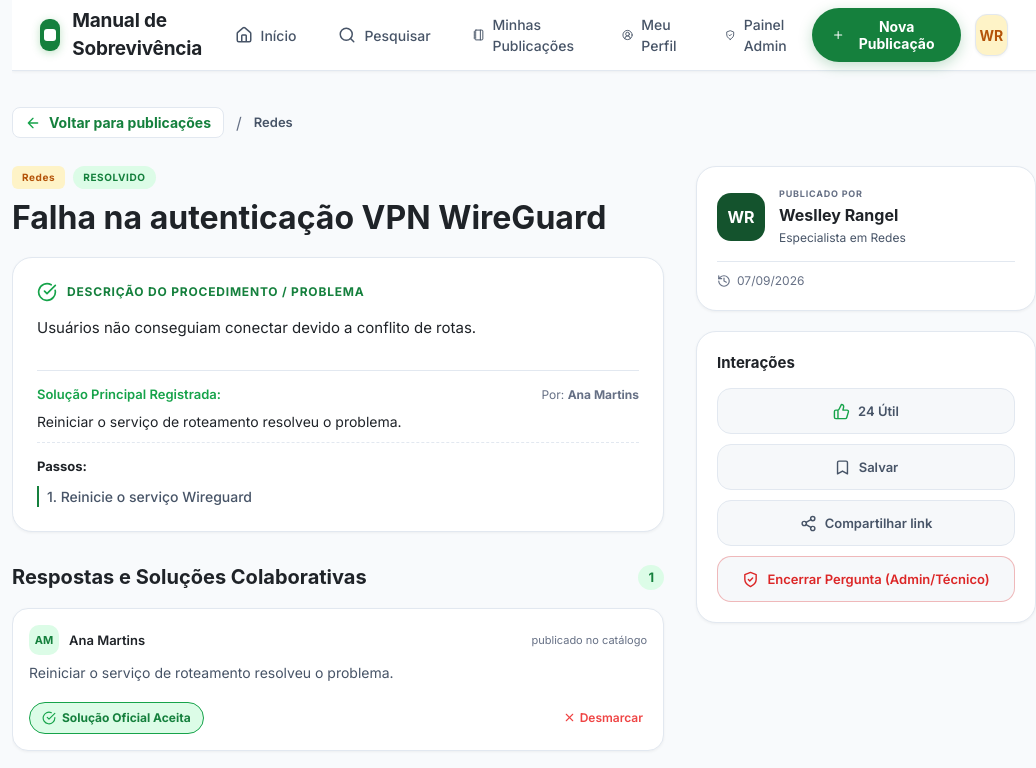
Test: PublicationDetail Page › alterna o botão de Útil/Like incrementando e decrementando a contagem
Expected: the text "24 Útil" is shown, [858,403,899,419]
Click the button "24 Útil": (866, 411) [717,388,1015,434]
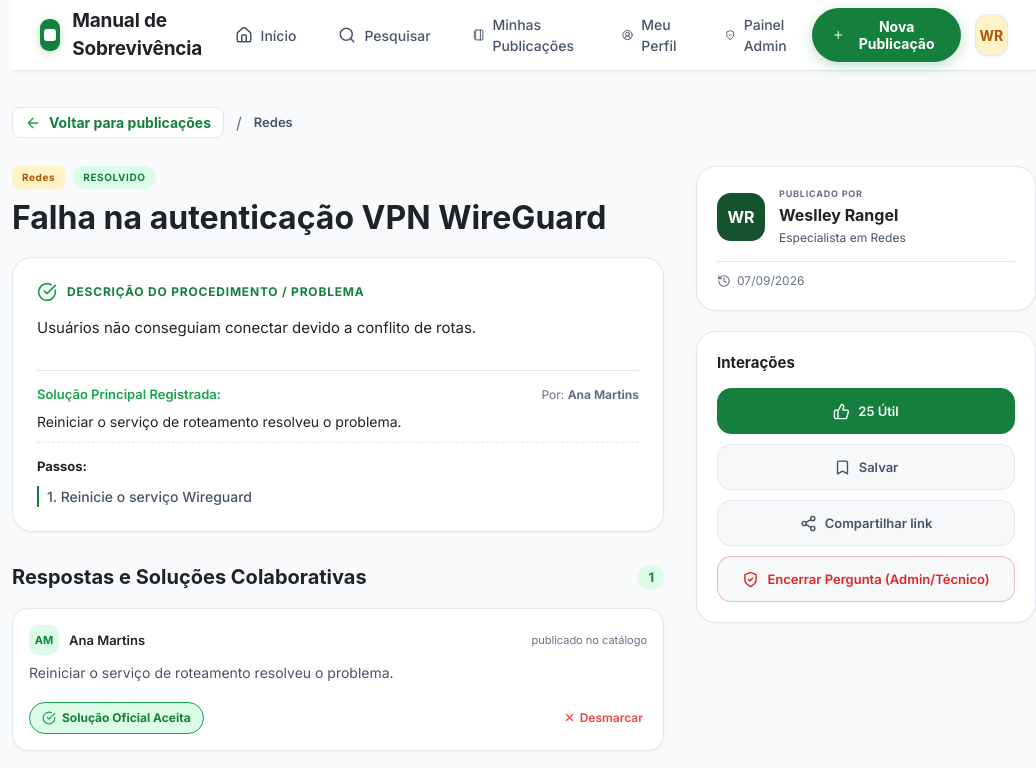
Now the text "25 Útil" is shown, box [858,403,899,419]
Click the button named "24 útil": (866, 411) [717,388,1015,434]
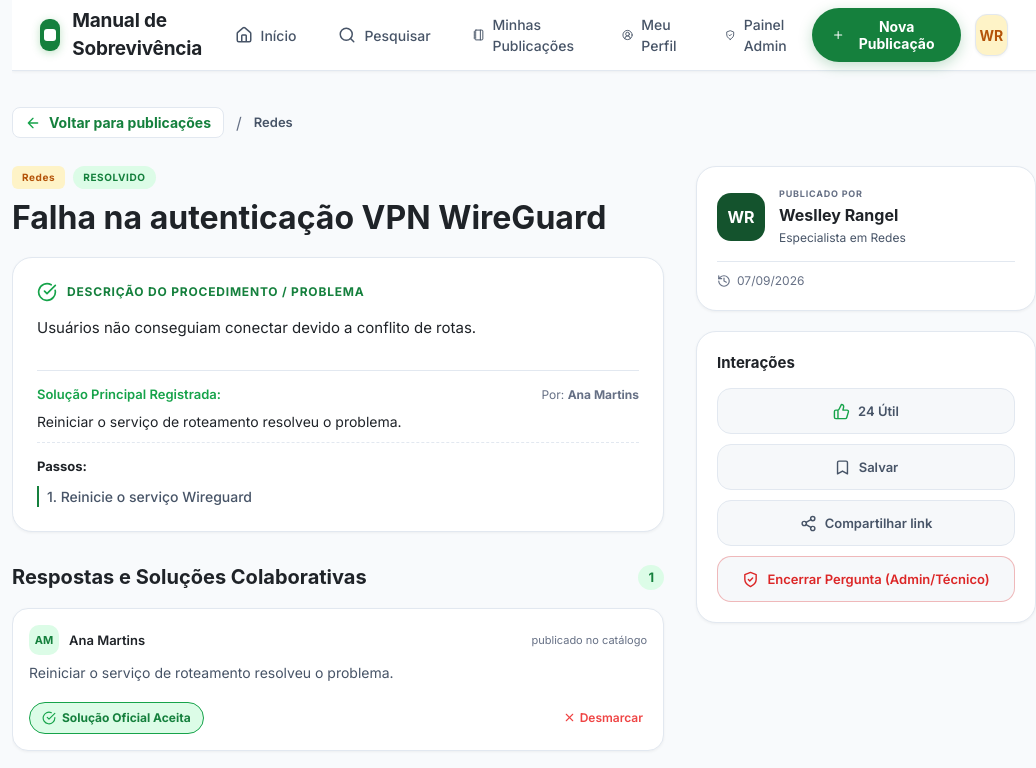
Now the text "24 Útil" is shown, box [858,403,899,419]
